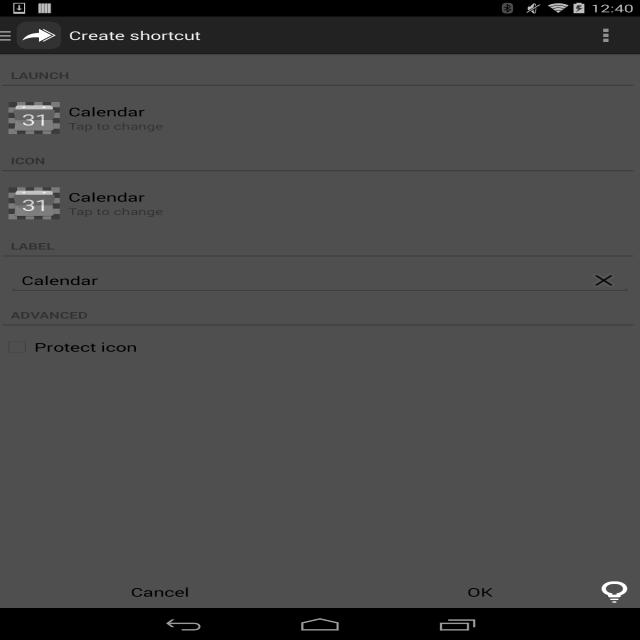Button: (0, 576, 320, 608), (320, 576, 640, 608)
CheckBox: (0, 336, 640, 358)
EditText: (9, 267, 632, 294)
ImageButton: (571, 16, 640, 54)
ImageView: (14, 19, 64, 52), (8, 102, 59, 134), (8, 188, 59, 220), (598, 581, 632, 603), (586, 270, 620, 291), (0, 30, 17, 41)
TextView: (2, 235, 634, 257), (2, 304, 634, 326), (2, 65, 634, 86), (2, 150, 634, 171), (69, 27, 201, 43), (68, 103, 145, 120), (68, 205, 164, 218), (68, 189, 145, 205), (68, 120, 164, 132)
